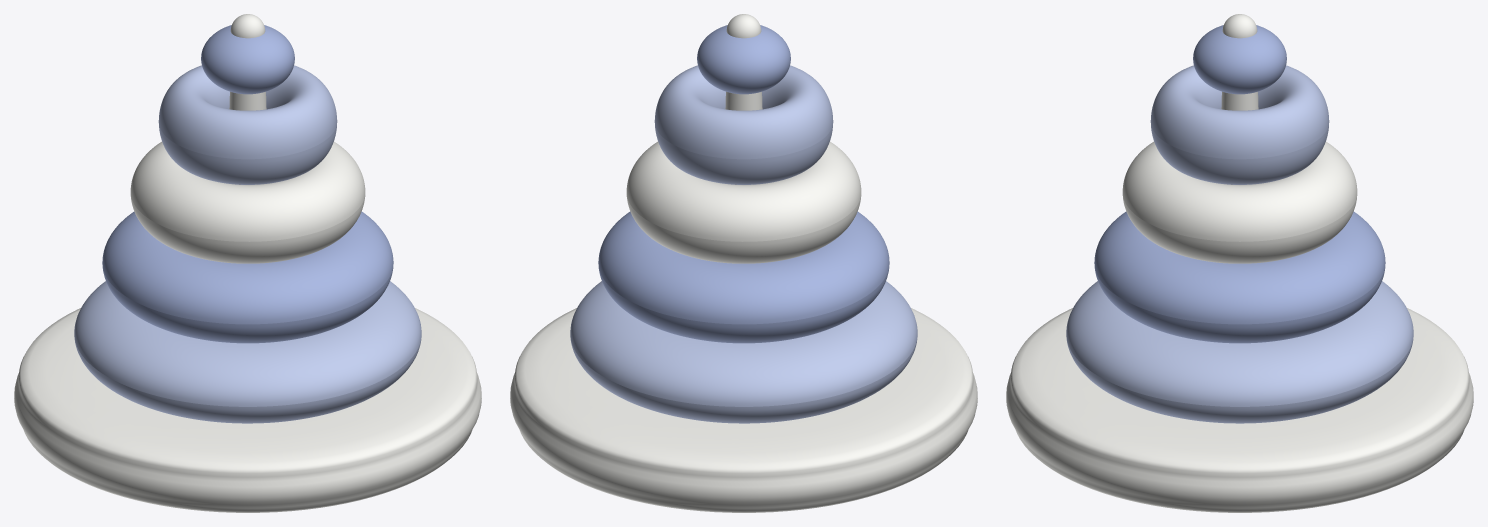
The model's file is stacking-rings.glb.
The picture shows the model from 3 angles, left to right: view 1: azimuth 30°, elevation 25°; view 2: azimuth 150°, elevation 25°; view 3: azimuth 270°, elevation 25°; orthographic projection.
Visible parts, largest first — view 1: sculpted-surface, soft-rounded-stacking-ring-1, soft-rounded-stacking-ring-2, soft-rounded-stacking-ring-3, soft-rounded-stacking-ring-4, complete-sculpture-008, complete-sculpture-003, complete-sculpture-002; view 2: sculpted-surface, soft-rounded-stacking-ring-1, soft-rounded-stacking-ring-2, soft-rounded-stacking-ring-3, soft-rounded-stacking-ring-4, complete-sculpture-008, complete-sculpture-003, complete-sculpture-002; view 3: sculpted-surface, soft-rounded-stacking-ring-1, soft-rounded-stacking-ring-2, soft-rounded-stacking-ring-3, soft-rounded-stacking-ring-4, complete-sculpture-008, complete-sculpture-003, complete-sculpture-002.
Part boxes in pixels (box(x1,y1,x2,y2)): sculpted-surface: box(14, 308, 481, 512); soft-rounded-stacking-ring-1: box(74, 281, 421, 423); soft-rounded-stacking-ring-2: box(102, 211, 393, 343); soft-rounded-stacking-ring-3: box(130, 141, 365, 263); soft-rounded-stacking-ring-4: box(158, 65, 337, 184); complete-sculpture-008: box(201, 25, 294, 94); complete-sculpture-003: box(230, 14, 265, 38); complete-sculpture-002: box(229, 91, 266, 184); sculpted-surface: box(510, 308, 977, 512); soft-rounded-stacking-ring-1: box(570, 281, 917, 423); soft-rounded-stacking-ring-2: box(598, 211, 889, 343); soft-rounded-stacking-ring-3: box(626, 141, 861, 263); soft-rounded-stacking-ring-4: box(654, 65, 833, 184); complete-sculpture-008: box(697, 25, 790, 94); complete-sculpture-003: box(726, 14, 761, 38); complete-sculpture-002: box(725, 91, 762, 184); sculpted-surface: box(1006, 308, 1473, 512); soft-rounded-stacking-ring-1: box(1066, 281, 1413, 423); soft-rounded-stacking-ring-2: box(1094, 211, 1385, 343); soft-rounded-stacking-ring-3: box(1122, 141, 1357, 263); soft-rounded-stacking-ring-4: box(1150, 65, 1329, 184); complete-sculpture-008: box(1193, 25, 1286, 94); complete-sculpture-003: box(1222, 14, 1257, 38); complete-sculpture-002: box(1221, 91, 1258, 184).
Bounding box in the file's own units: 2 × 1.93 × 2.
